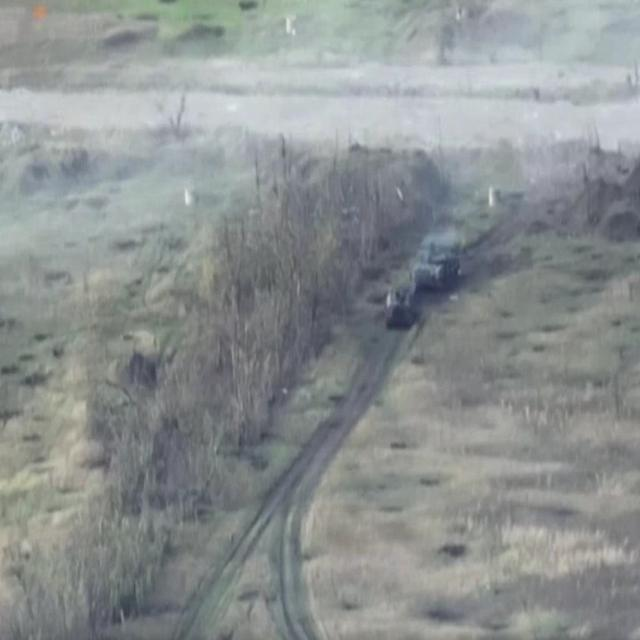AIFV: (384, 282, 414, 337), (551, 586, 566, 592)
MBT: (413, 240, 477, 295)
